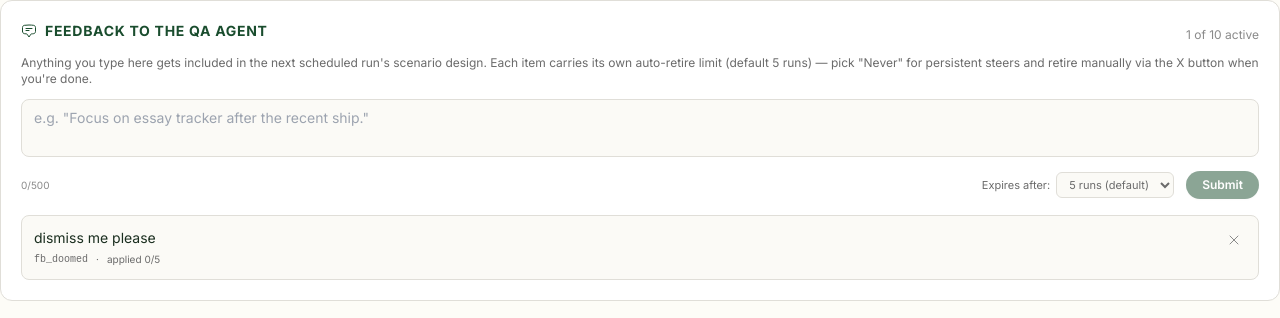
Test case: FeedbackPanel › dismisses an item via the X button
Expected: the text "dismiss me please" is shown, [34,229,156,246]
What coordinates should you click on to do the following:
click the button named "Dismiss fb_doomed"
I would click on:
 (1234, 240)
Its box is [1222,228,1246,252].
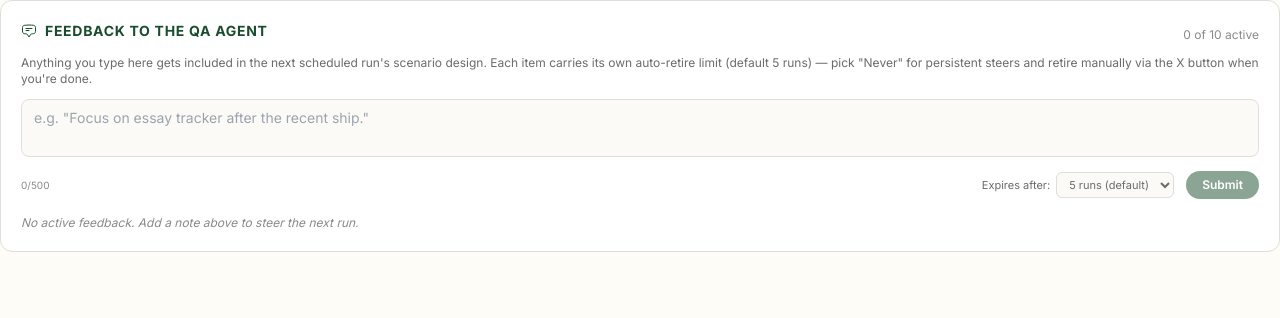
Result: the text "dismiss me please" is gone
